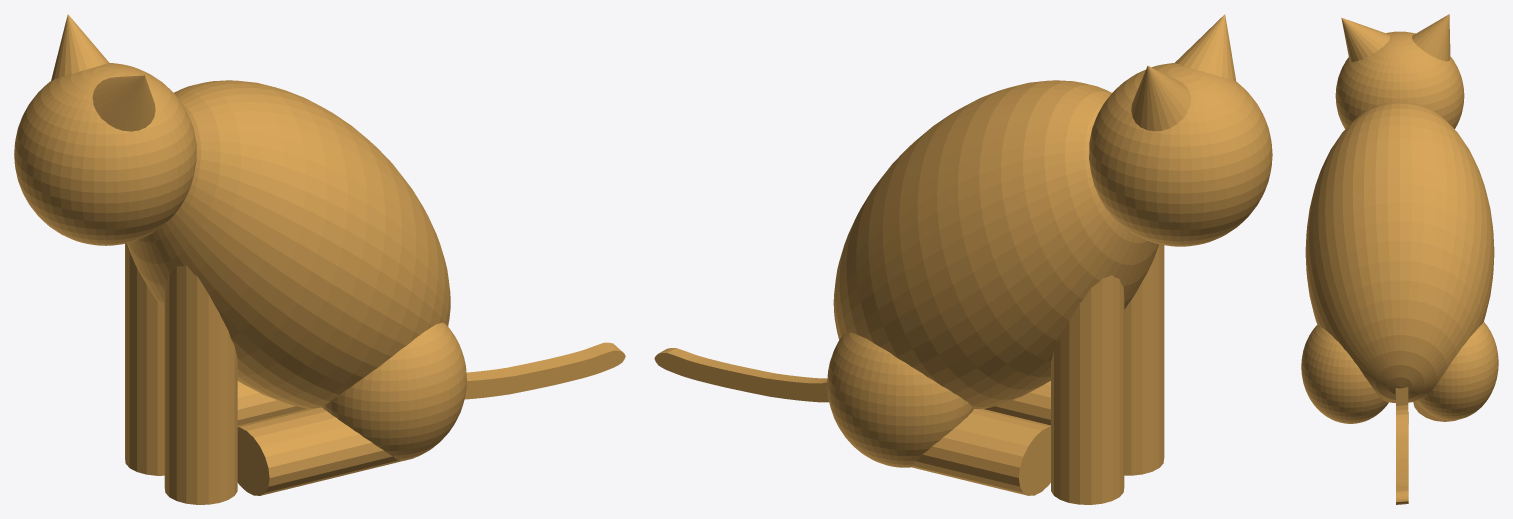
3 views of the same model, side by side, from view 1: azimuth 30°, elevation 25°; view 2: azimuth 150°, elevation 25°; view 3: azimuth 270°, elevation 25° (orthographic). The views are drawn at different scales.
Parts seen in each view (by area): view 1: Mesh_Mesh_head_geo.001_lambert2SG.001; view 2: Mesh_Mesh_head_geo.001_lambert2SG.001; view 3: Mesh_Mesh_head_geo.001_lambert2SG.001.
Part boxes in pixels (left/top/right/bottom): Mesh_Mesh_head_geo.001_lambert2SG.001: left=14, top=14, right=625, bottom=504; Mesh_Mesh_head_geo.001_lambert2SG.001: left=654, top=14, right=1272, bottom=504; Mesh_Mesh_head_geo.001_lambert2SG.001: left=1301, top=14, right=1498, bottom=504.
Size of the model in its own units: 113 by 81.81 by 46.
